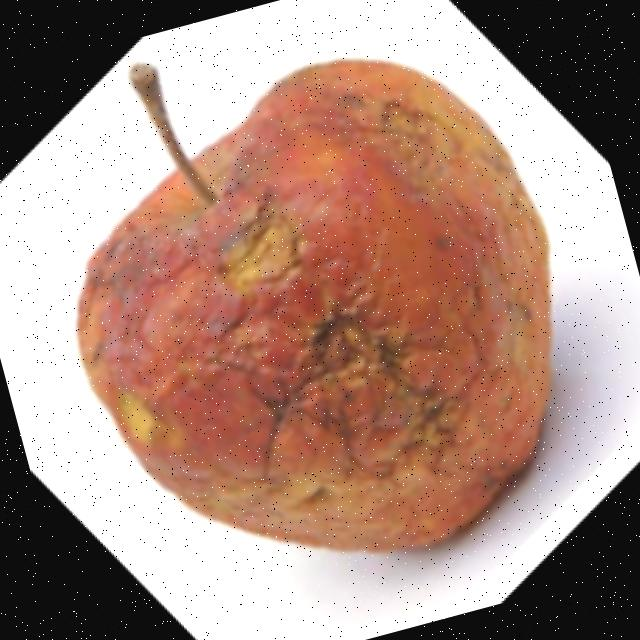Rotten: (11, 12, 617, 630)
